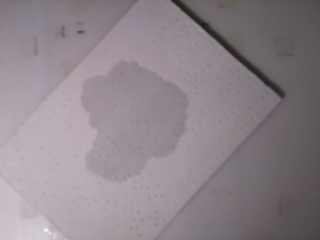Water_detected: (99, 81, 180, 168)
